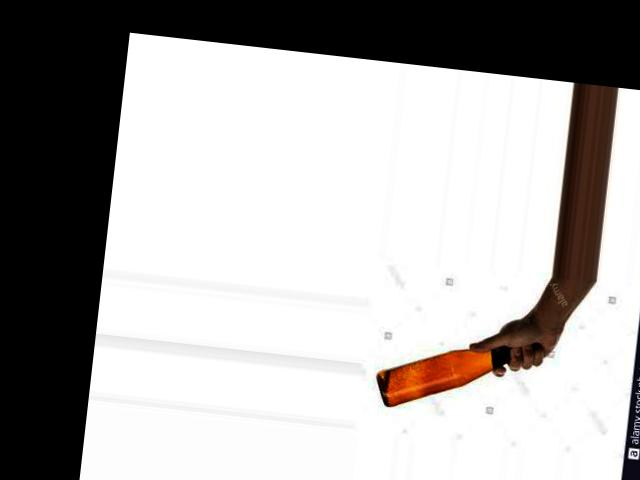beer: (372, 327, 539, 422)
